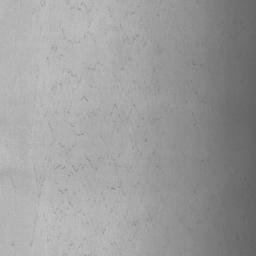Silk spot: (68, 155, 98, 177)
